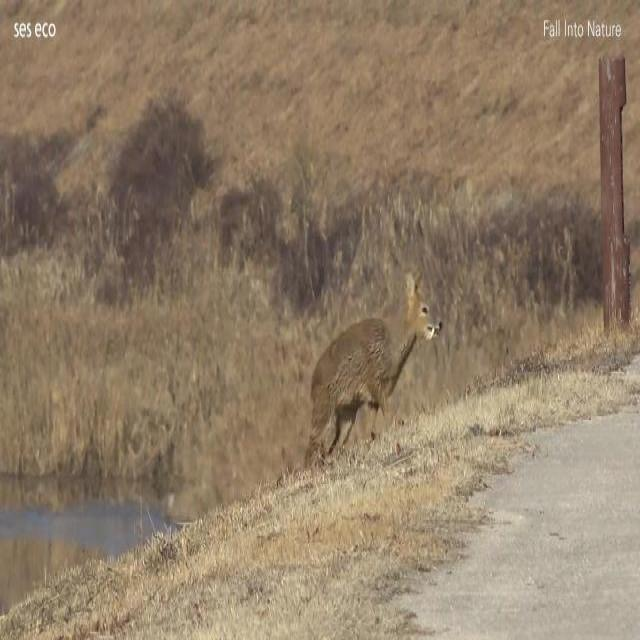deer: (304, 268, 446, 465)
